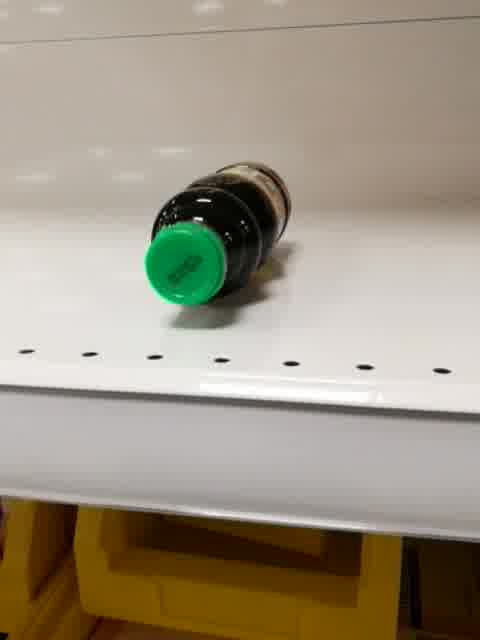cookingoil: (141, 157, 296, 309)
